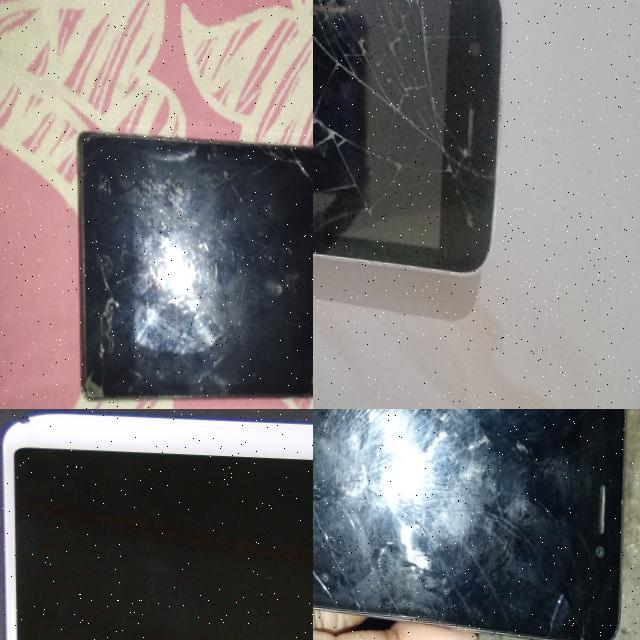screen crack: (313, 0, 503, 268), (84, 189, 129, 404), (138, 123, 221, 189), (535, 574, 597, 640), (326, 409, 405, 451)
